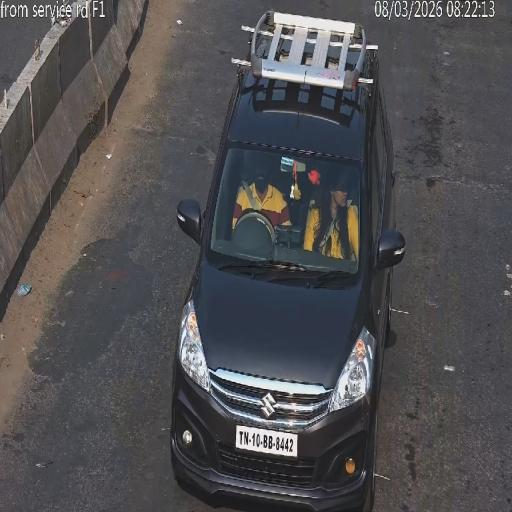person_with_seatbelt: (314, 202, 354, 256), (238, 175, 272, 238)
